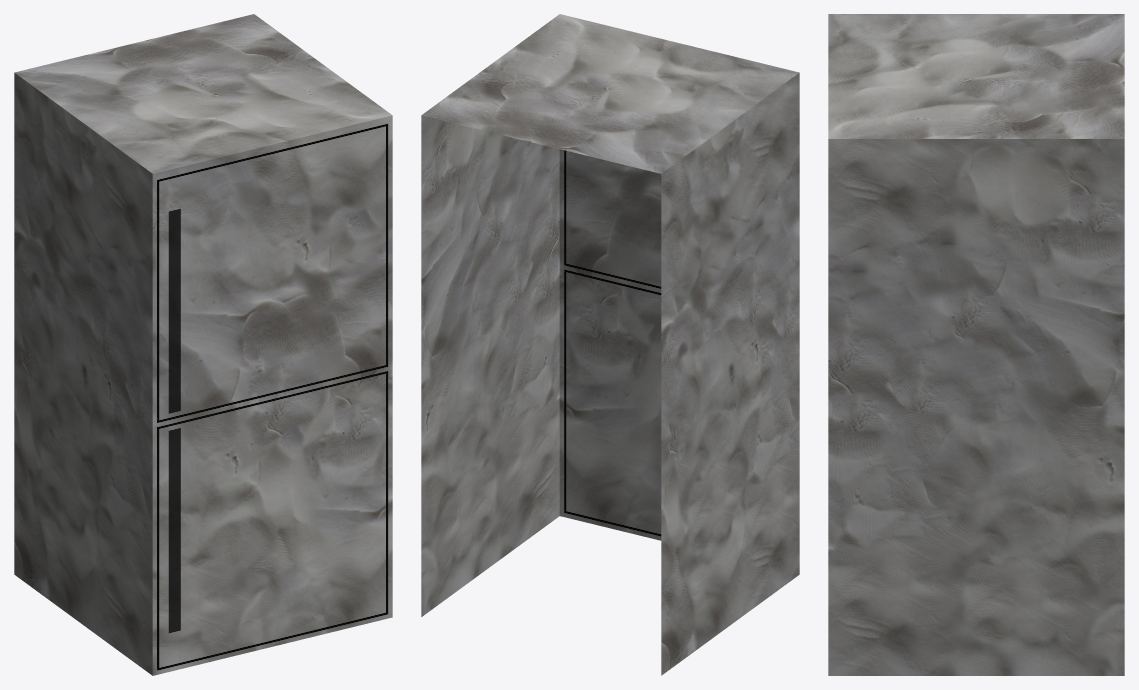
Rendered from fridge.fbx.
3 views of the same model, side by side, from view 1: azimuth 30°, elevation 25°; view 2: azimuth 150°, elevation 25°; view 3: azimuth 270°, elevation 25° (orthographic). The views are drawn at different scales.
Visible parts, largest first — view 1: Fridge; view 2: Fridge; view 3: Fridge.
Part boxes in pixels (x1=…): Fridge: x1=14, y1=14, x2=392, y2=675; Fridge: x1=421, y1=14, x2=799, y2=675; Fridge: x1=828, y1=14, x2=1124, y2=675.
Bounding box in the file's own units: 1 × 2 × 1.
Materials: 1 (1 with a texture image).
